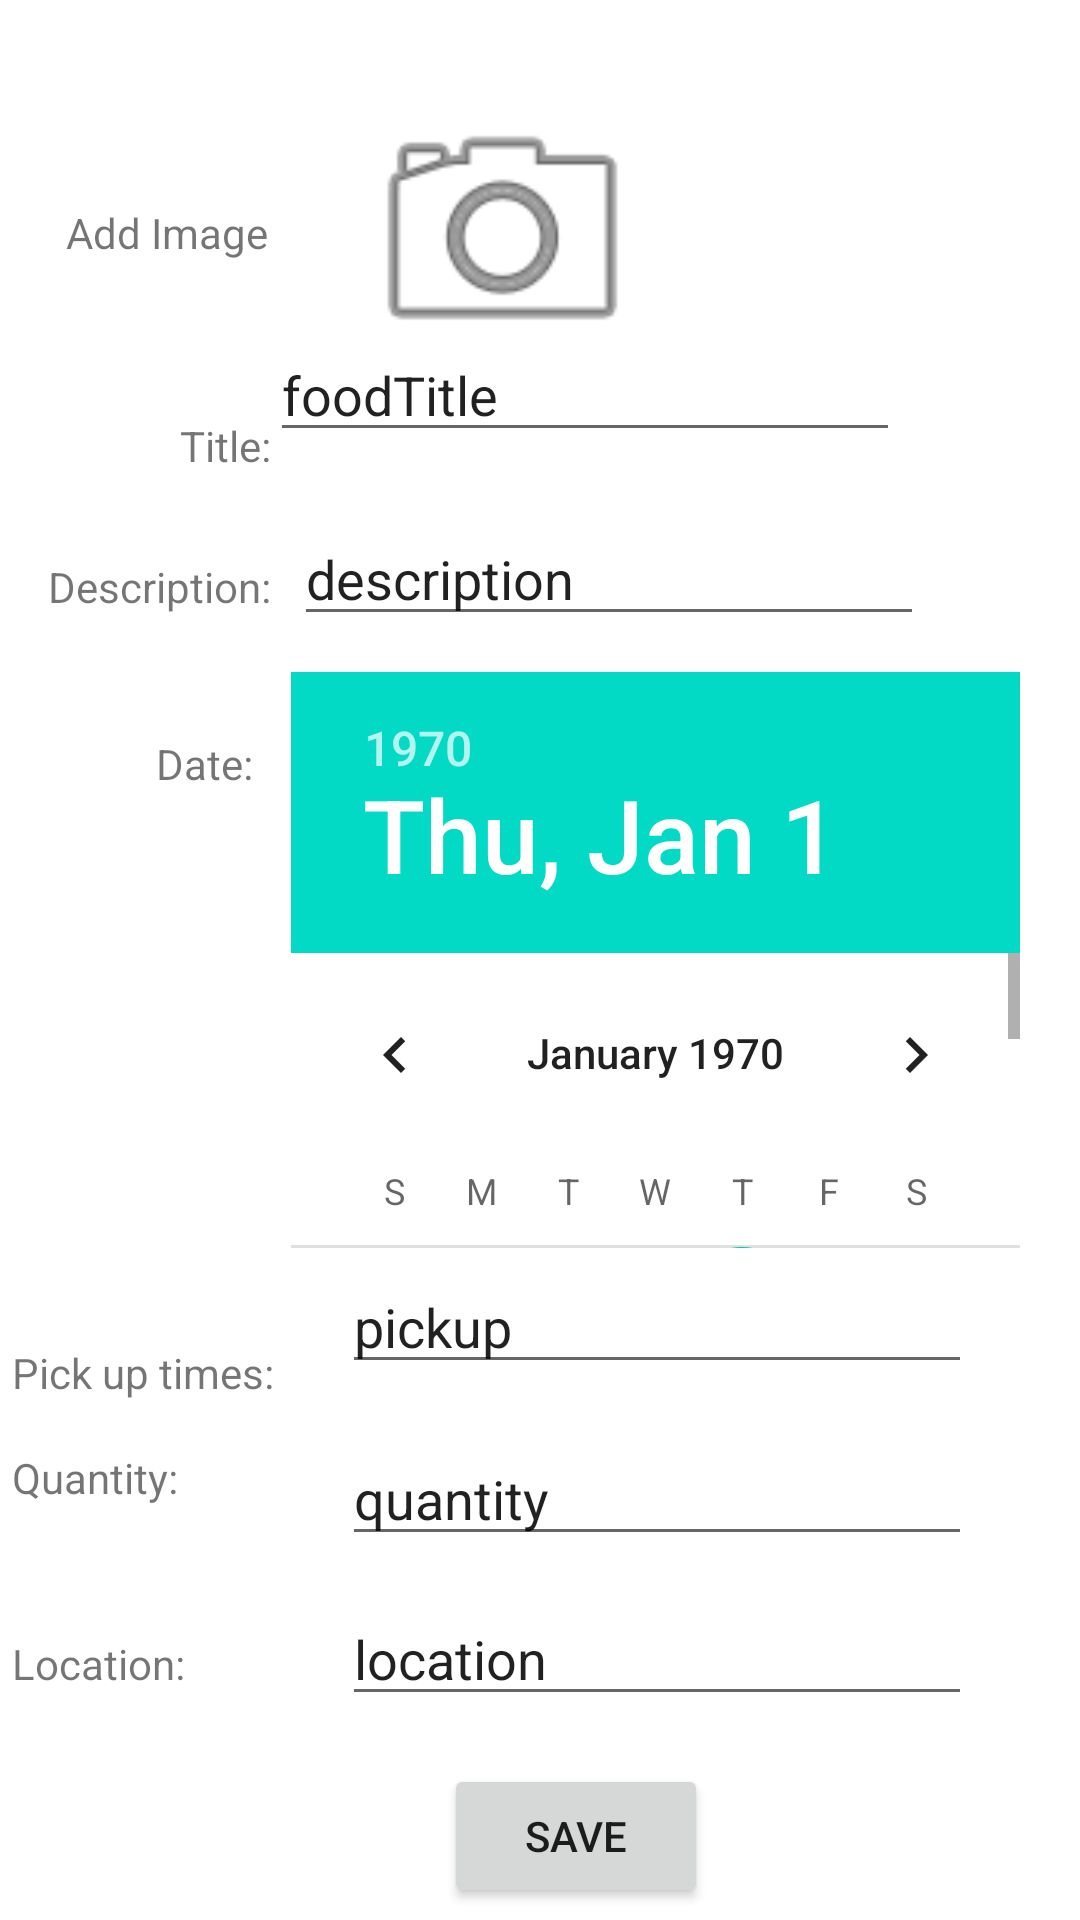

Named icons in this screenshot (1080×1920) and their bounding boxes, (x1, y1, x2, y2):
camera: (388, 136, 617, 381)
